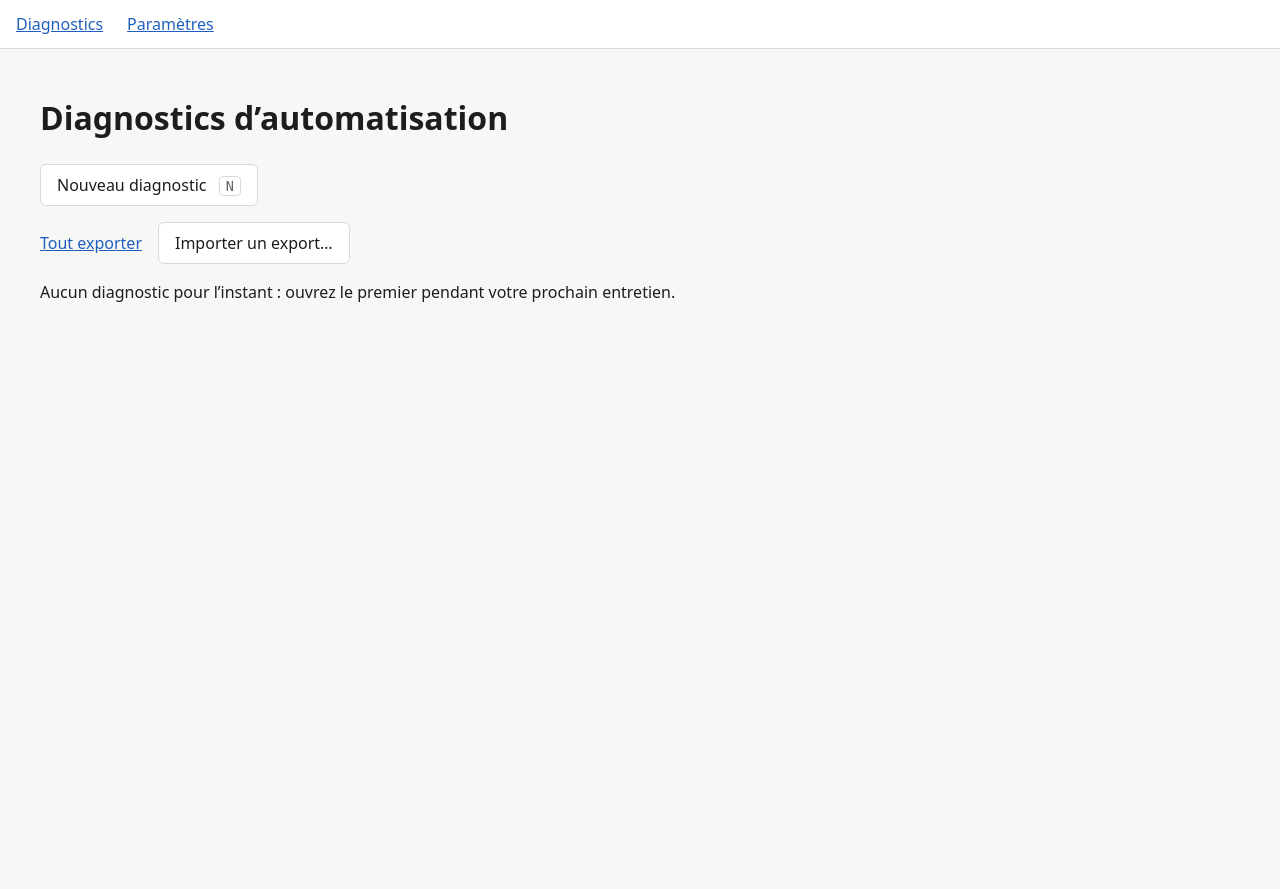
it: App › mène à l’entretien du diagnostic qui vient d’être ouvert
Click the button "Nouveau diagnostic N" at (149, 185), box [40,164,258,206]
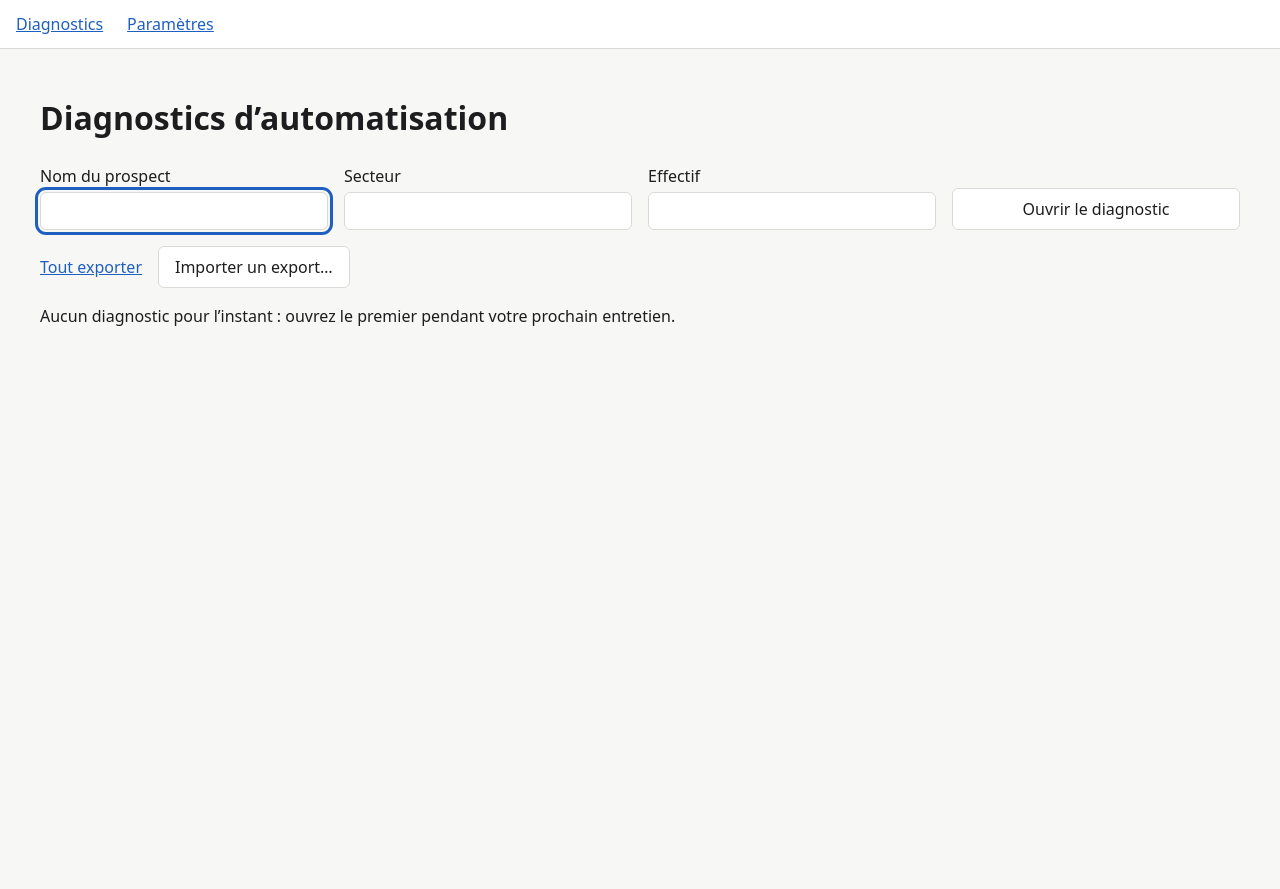
Type keys "Négoce Durand{Enter}"
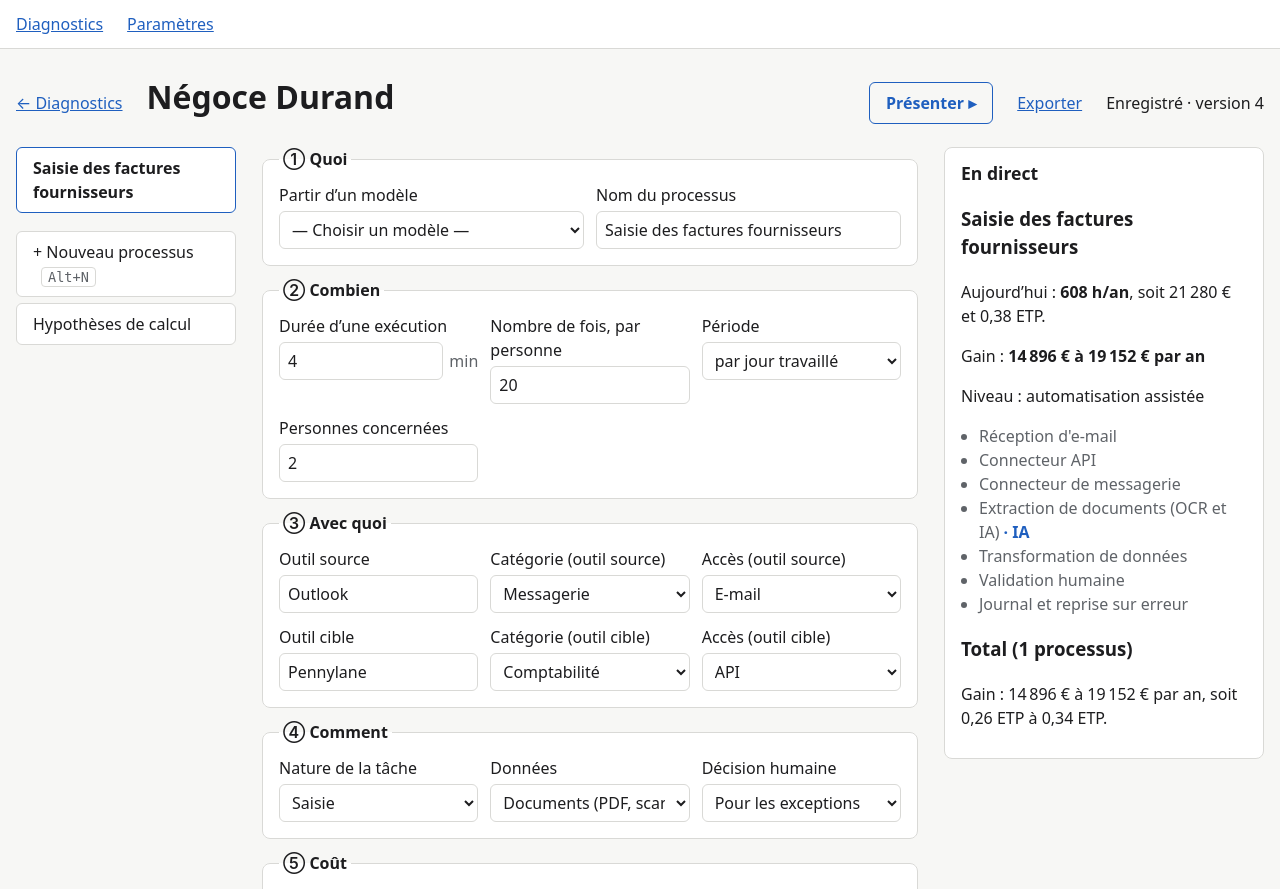
expect the heading "Négoce Durand" is shown: met, box [146,75,394,118]
expect the message reads "Enregistré · version 4": met, box [1106,91,1264,115]
